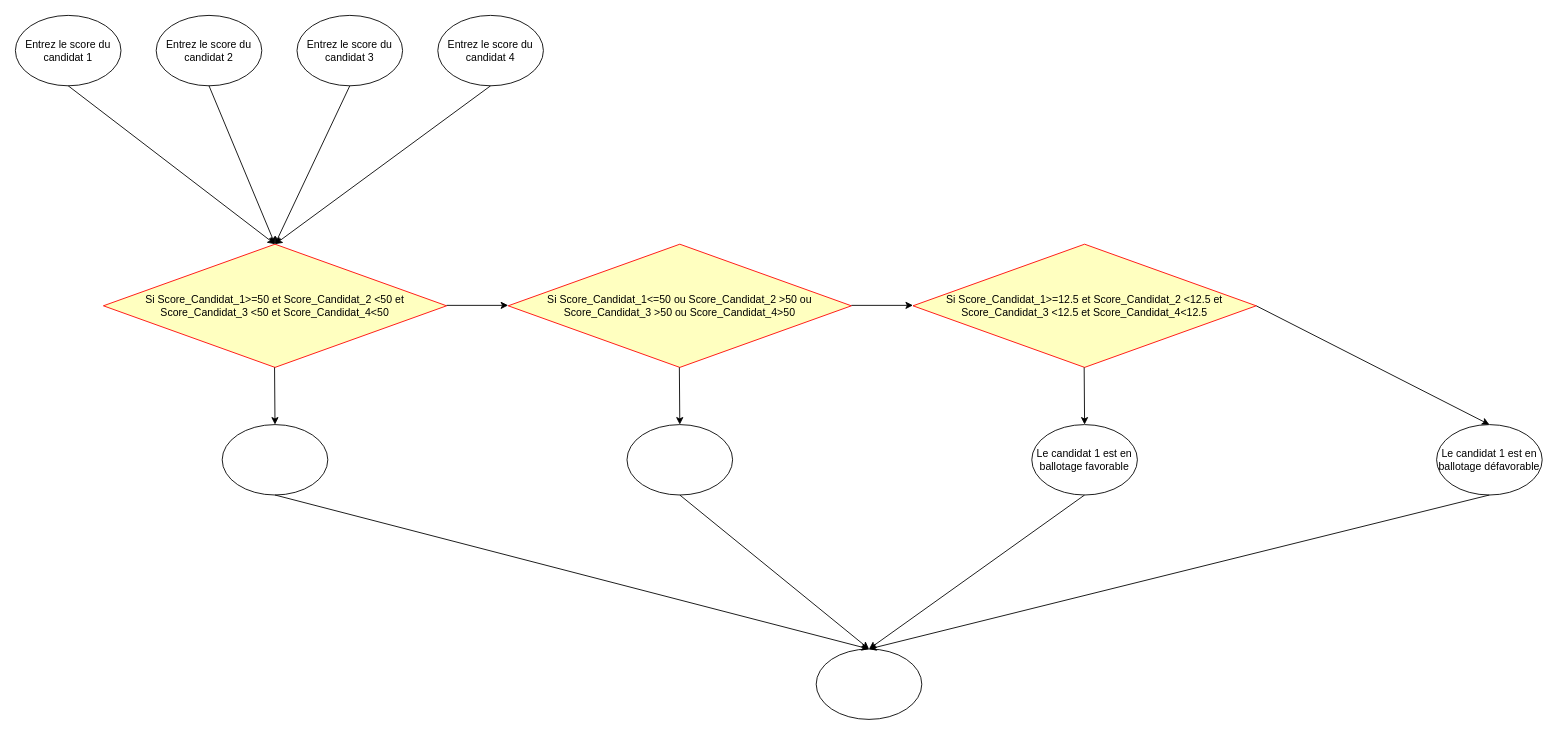
The diagram is 1558 pixels wide and 735 high, and some of its shapes have lost their labels. Here are the shapes that lost their labels. From the top down, the box of each, then its label:
(221, 424, 328, 495): Le candidat 1 est élu
(626, 424, 733, 495): Le candidat 1 est battu
(815, 648, 922, 719): Fin de l'algorithme
